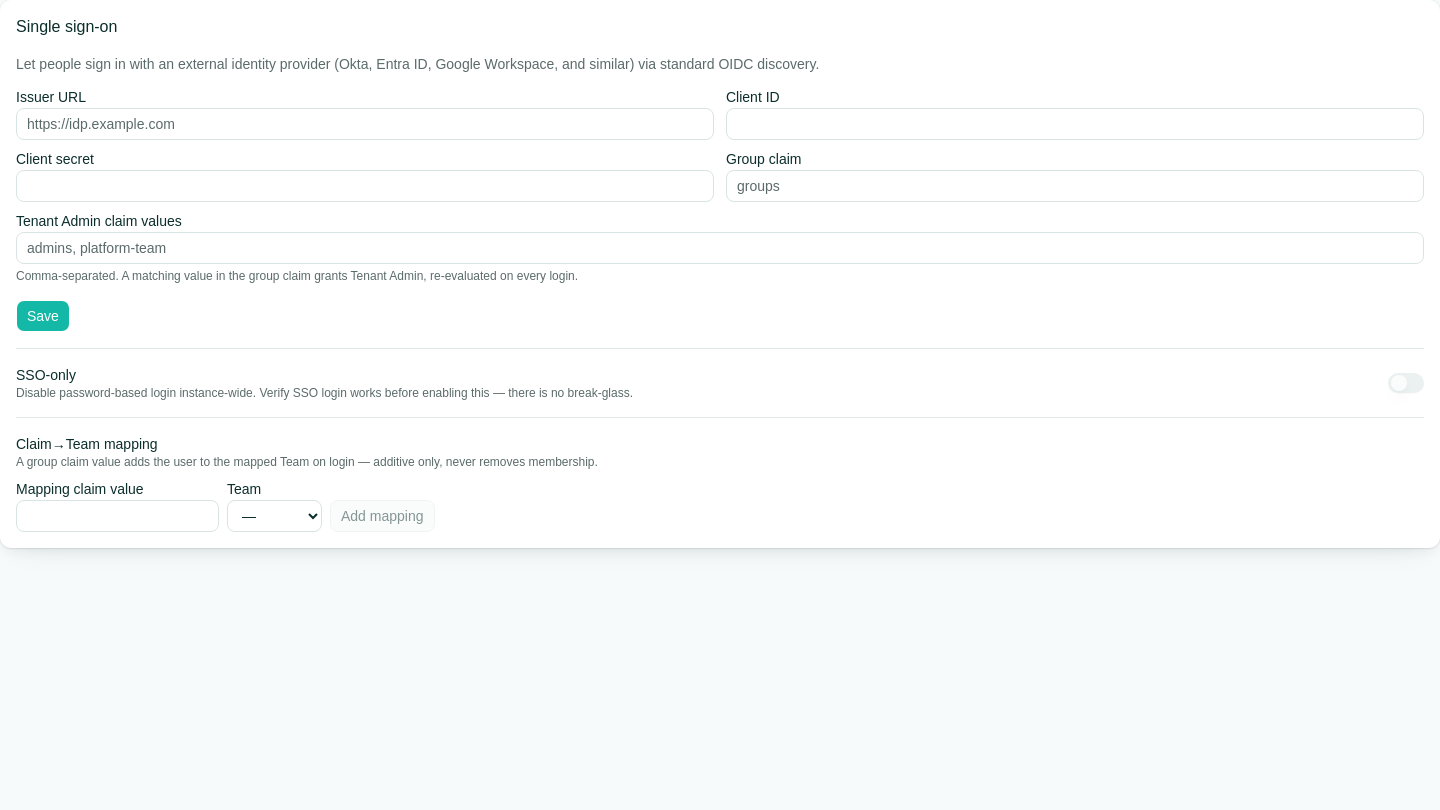
Test: SSOSettingsCard › shows a validation error inline when the save is rejected
Type "https://bad.example.com" into the field labelled "Issuer URL" at (365, 124), box [16, 108, 714, 140]
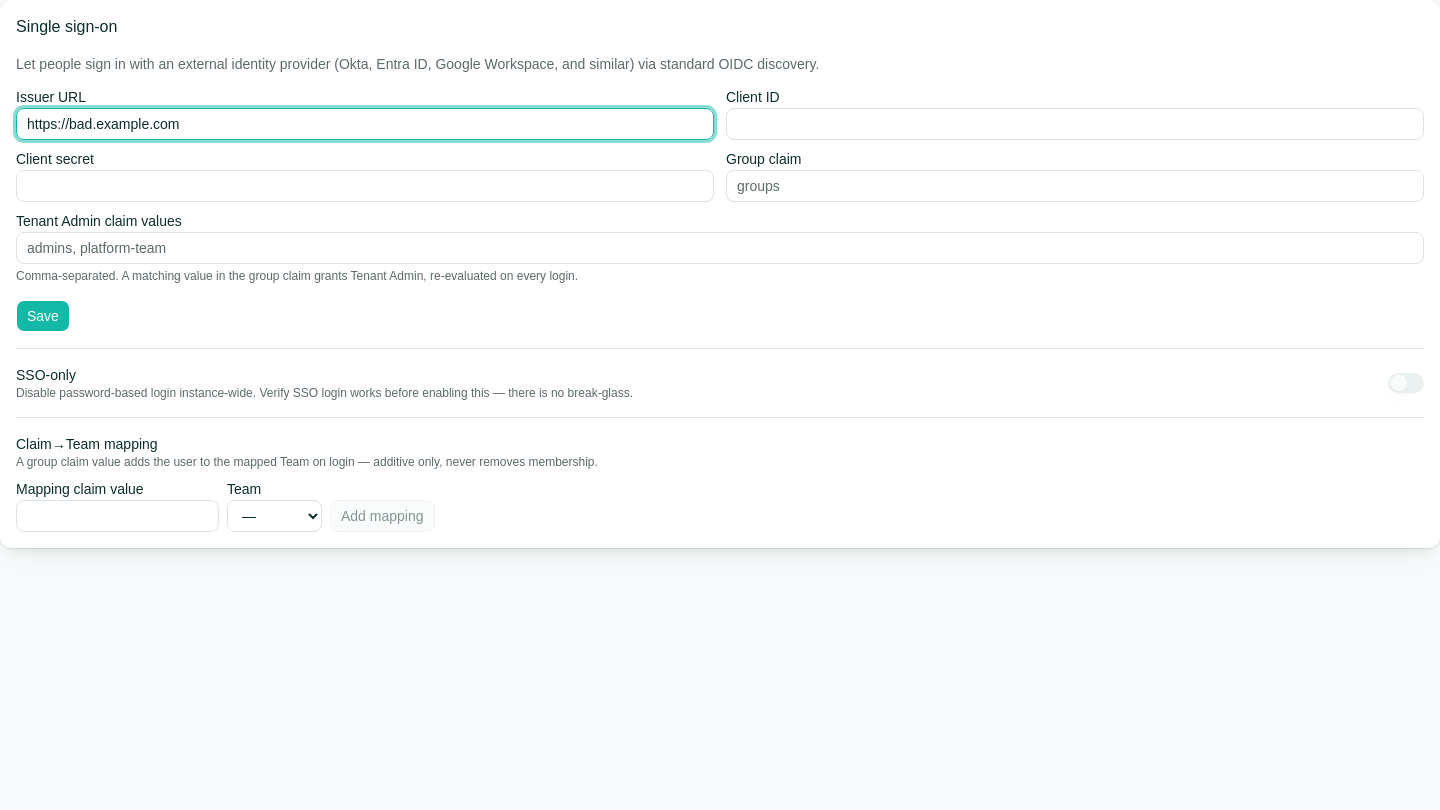
Type "testpulse" into the field labelled "Client ID" at (1075, 124), box [726, 108, 1424, 140]
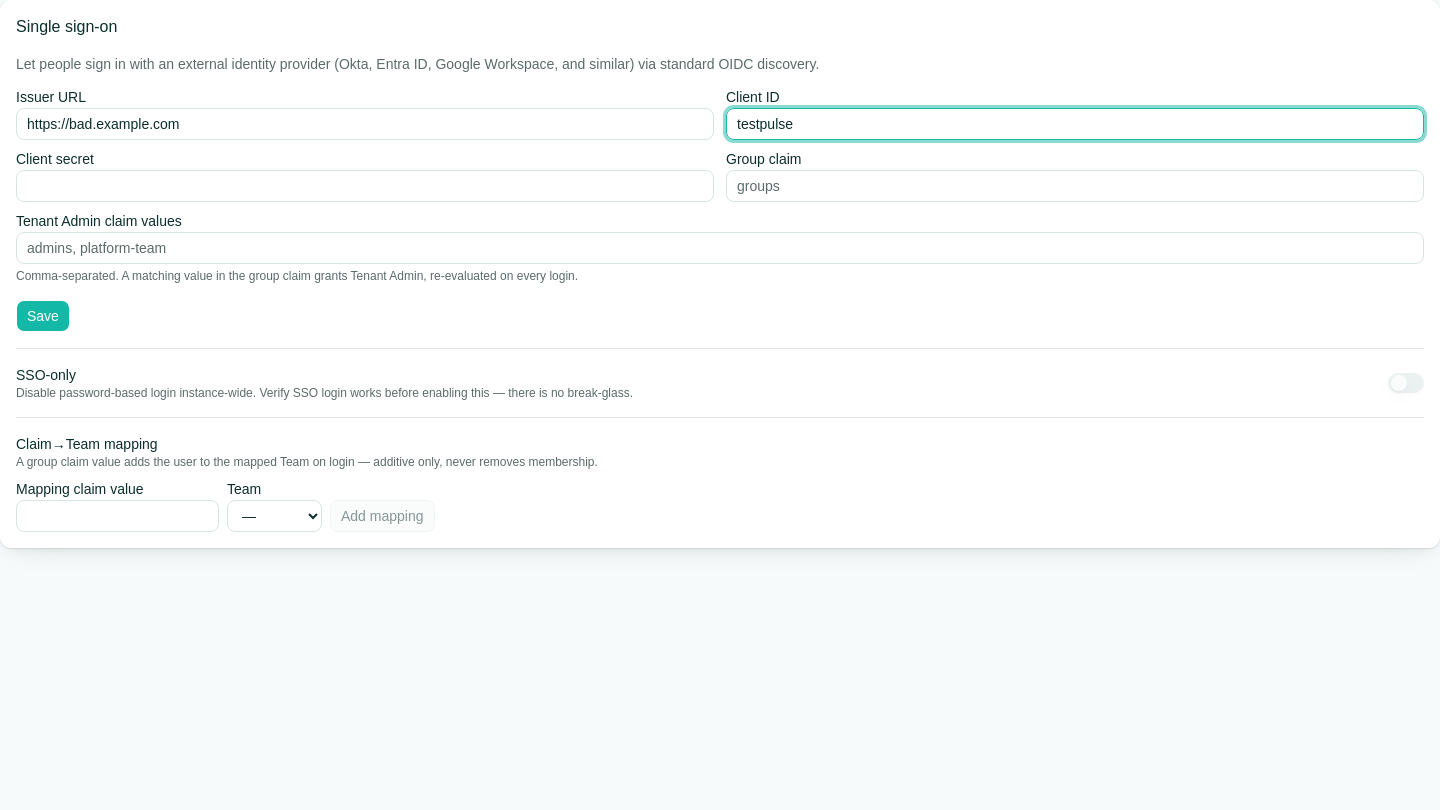
Type "shh" into the password field labelled "Client secret" at (365, 186), box [16, 170, 714, 202]
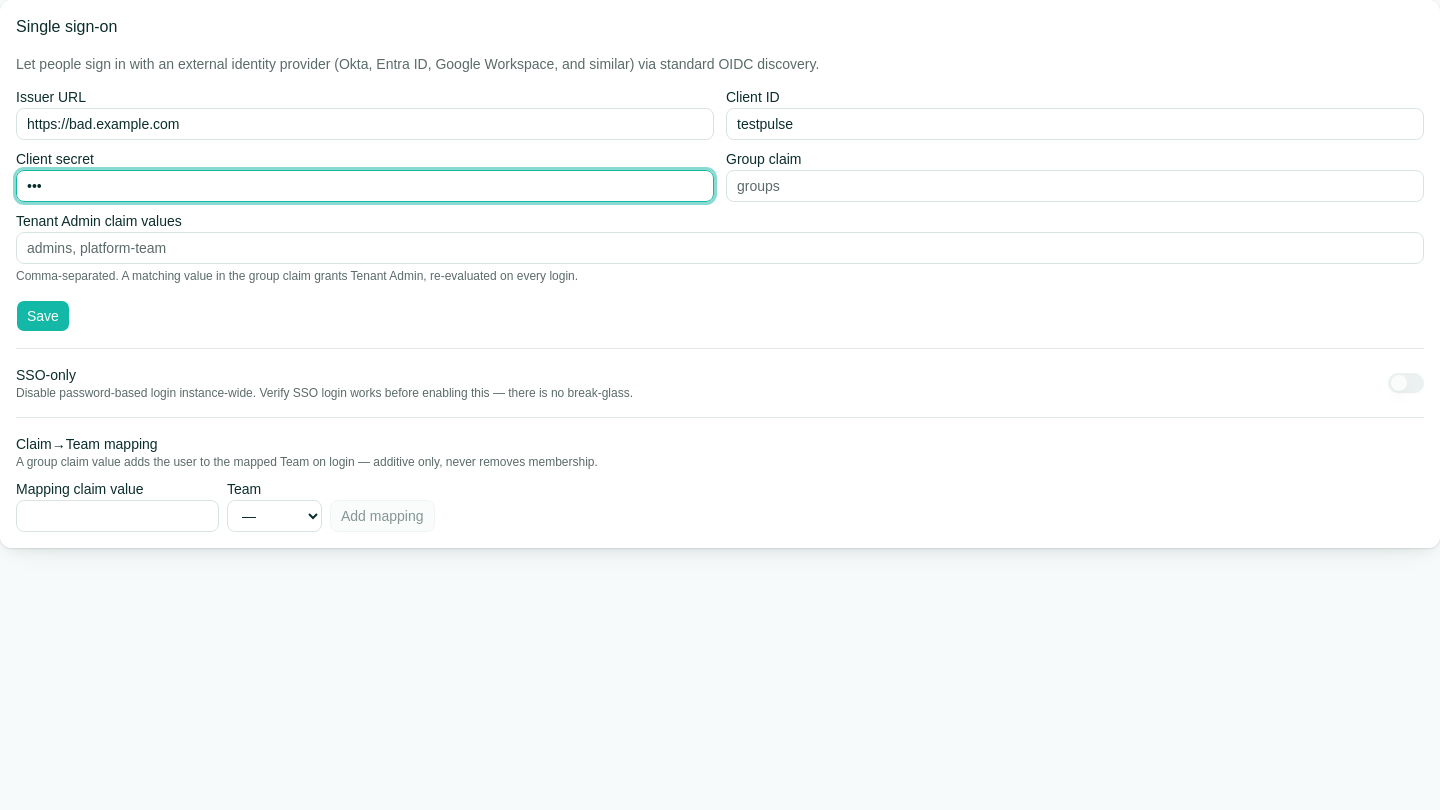
Click the button "Save" at (43, 316), box [16, 300, 70, 332]
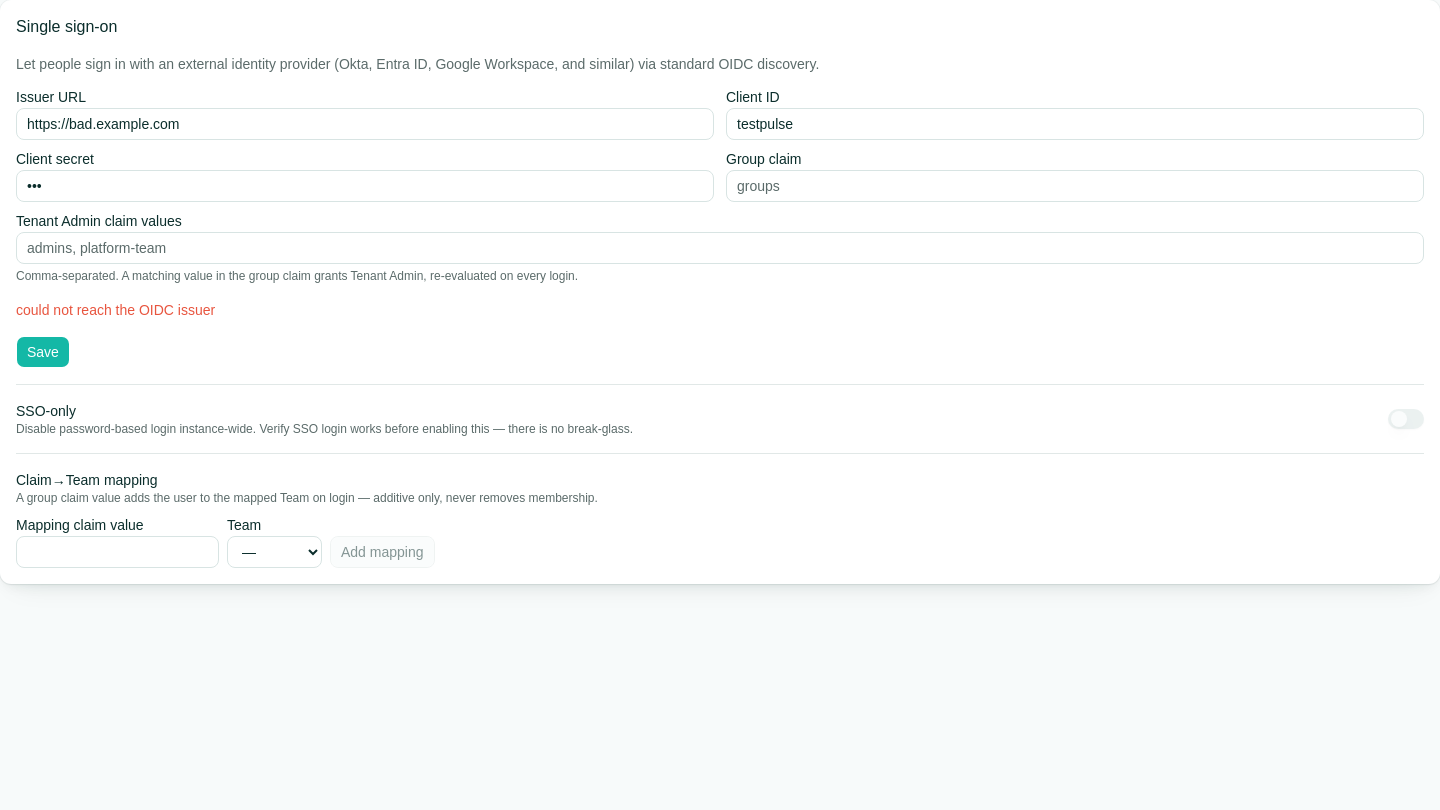
Expected: the text "could not reach the OIDC issuer" is shown, [16, 302, 215, 318]
